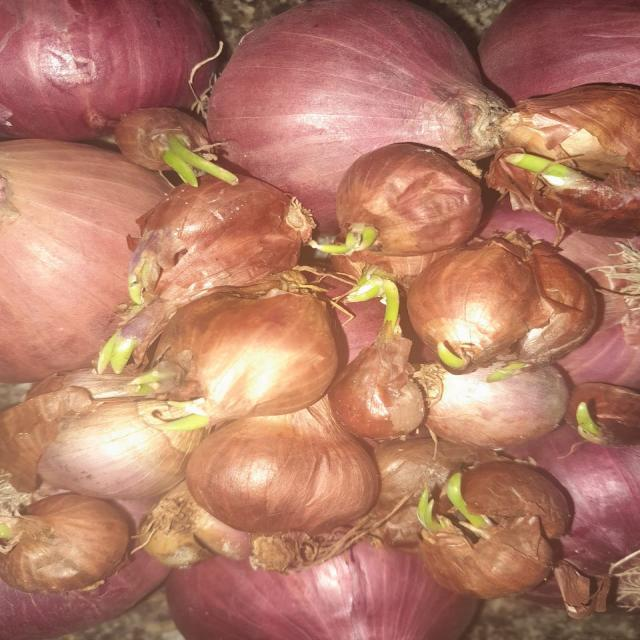sprouting: (414, 470, 514, 550), (92, 301, 162, 379), (312, 207, 388, 276), (148, 137, 244, 187), (350, 282, 420, 334), (568, 387, 622, 446), (501, 153, 600, 185), (132, 398, 207, 428)
